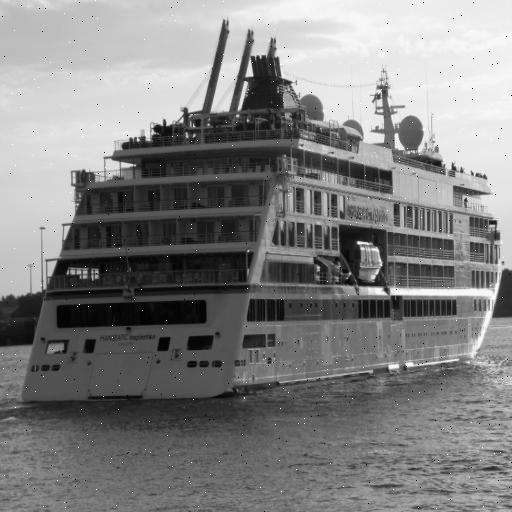cruises: (19, 55, 509, 416)
